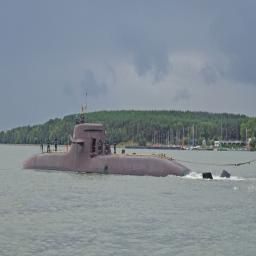submarine: (23, 125, 232, 179)
